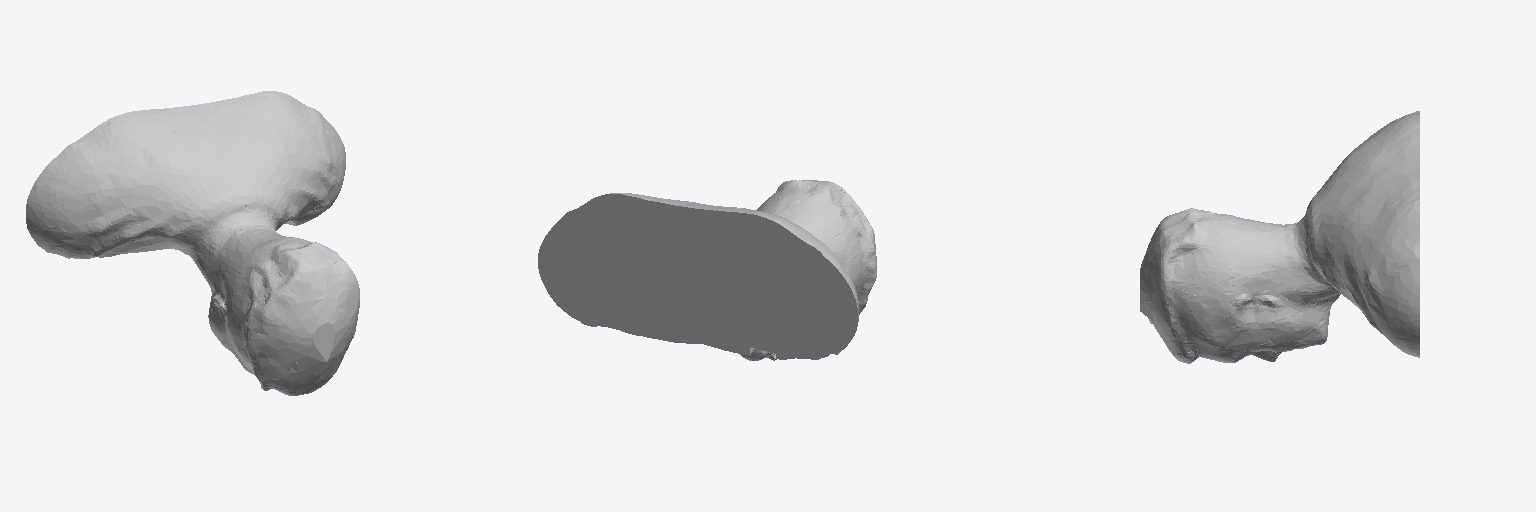
File: carlos_head.obj
3 views of the same model, side by side, from view 1: azimuth 30°, elevation 25°; view 2: azimuth 150°, elevation 25°; view 3: azimuth 270°, elevation 25° (orthographic).
Parts seen in each view (by area): view 1: obj_0; view 2: obj_0; view 3: obj_0.
Part boxes in pixels (left/top/right/bottom): obj_0: left=26, top=91, right=359, bottom=395; obj_0: left=538, top=180, right=876, bottom=360; obj_0: left=1140, top=111, right=1419, bottom=363.
Size of the model in its own units: 27.94 by 17.75 by 21.16.